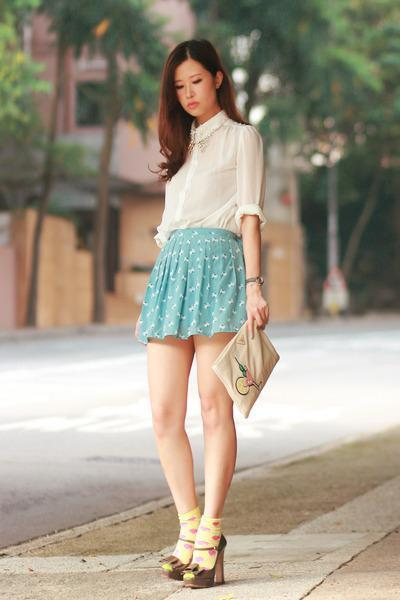bag: (211, 310, 275, 412)
shirt: (156, 112, 262, 247)
shoe: (166, 540, 232, 588)
skirt: (122, 226, 251, 353)
